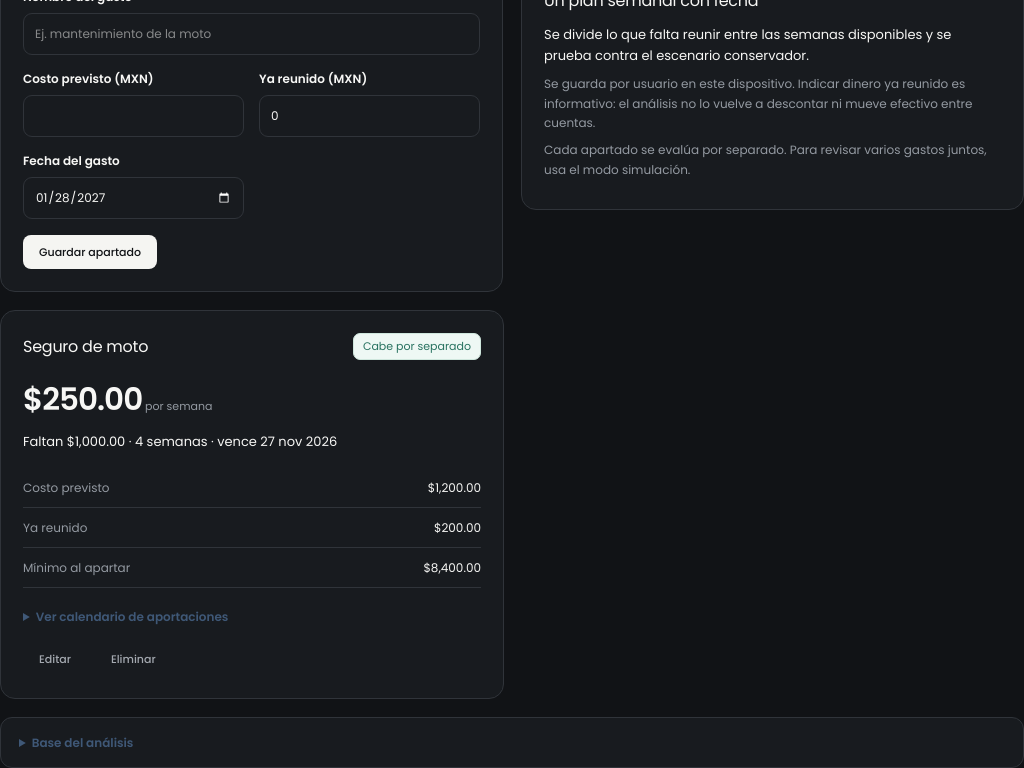
Finance decision tools › returns mobile provision editing to the populated form and respects reduced motion without saving
(page scrolled)
Step 1. Click the button with aria-label "Editar Seguro de moto" → (55,659), box [23,642,87,676]
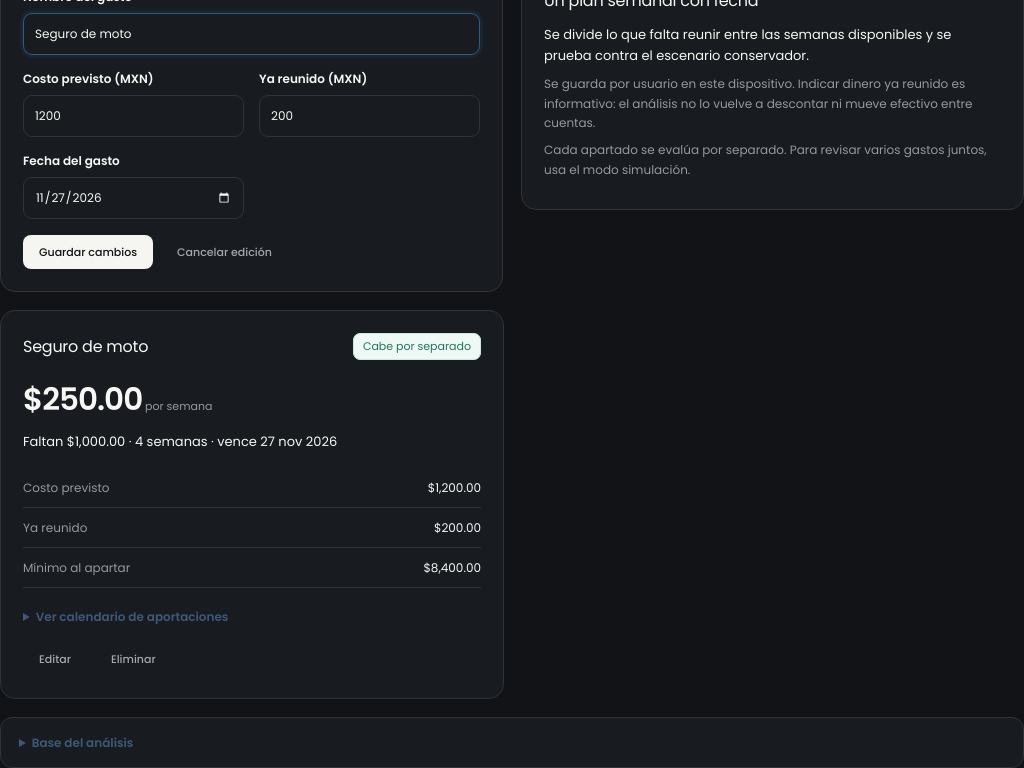
expect the field labelled "Nombre del gasto" holds "Seguro de moto": met, box [23,13,480,55]
expect the number field labelled "Costo previsto (MXN)" holds "1200": met, box [23,95,244,137]
